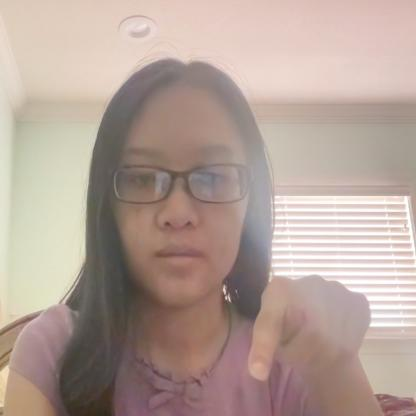finger_point: (246, 272, 293, 384)
